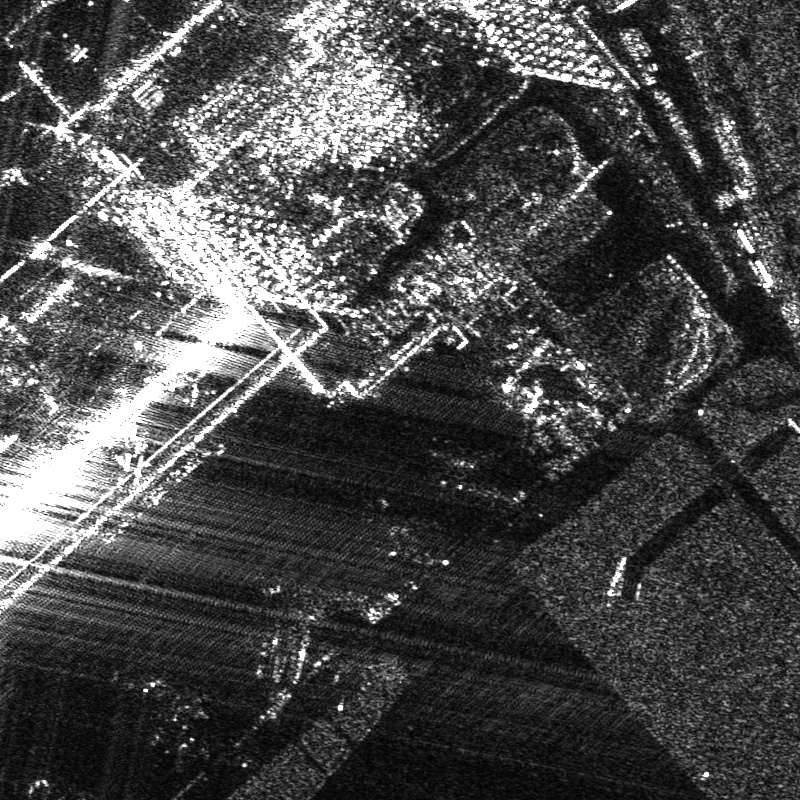Boeing737: (359, 491, 450, 564), (422, 439, 507, 501)
other: (132, 672, 224, 765)
